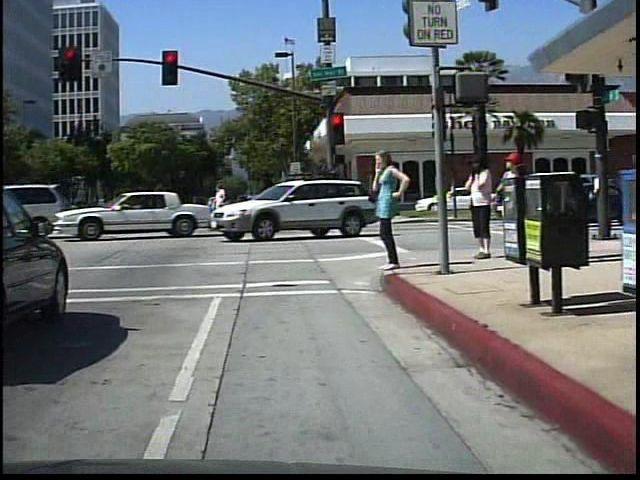person: (367, 146, 410, 279), (459, 148, 497, 261), (491, 146, 530, 244)
